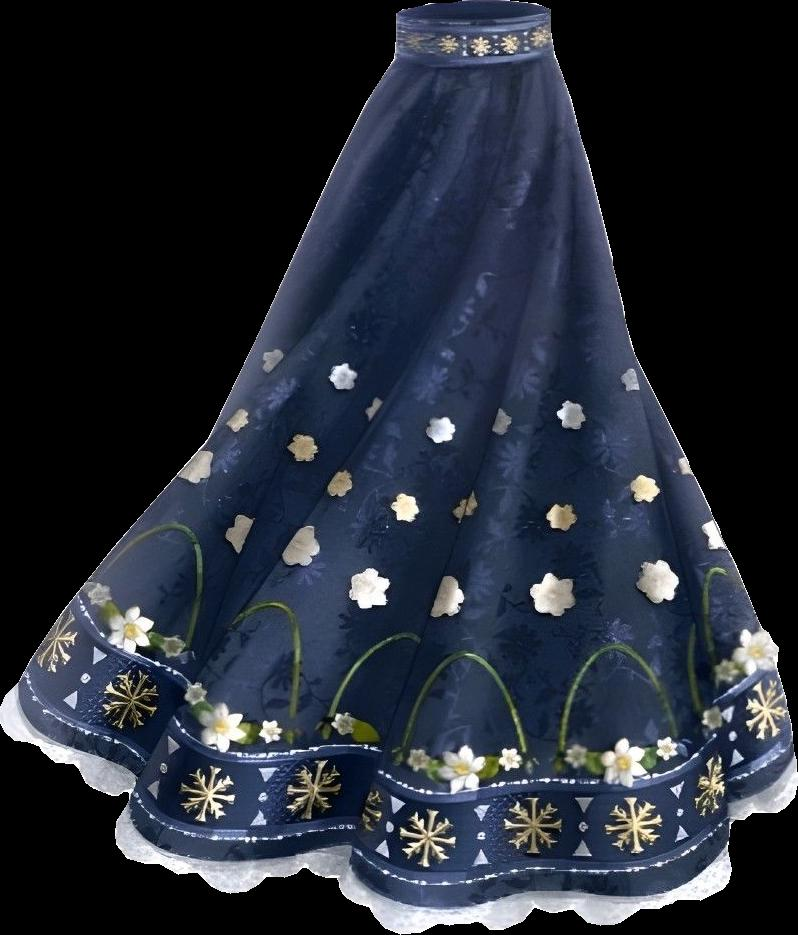Hemline: (0, 706, 797, 934)
Waistline: (393, 41, 553, 71), (395, 6, 550, 30)
